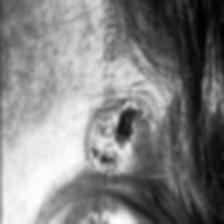Potentially Malignant Skin Tumors: (86, 102, 148, 176)
